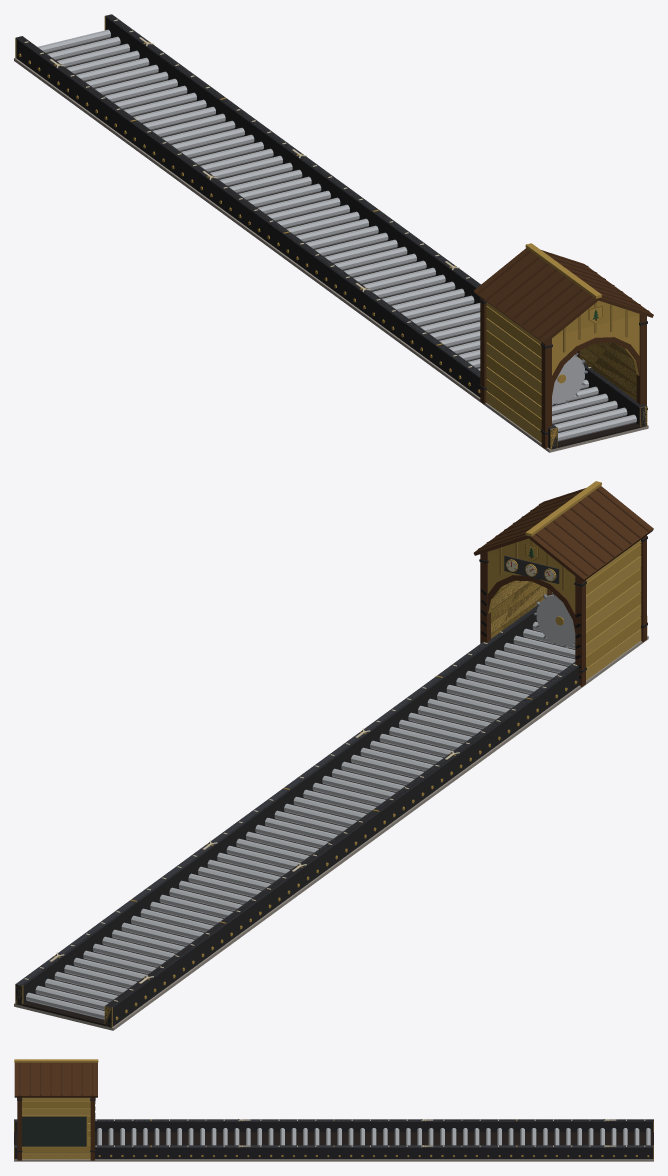
File: ChopSaw.glb
3 views of the same model, one above another, from view 1: azimuth 30°, elevation 25°; view 2: azimuth 150°, elevation 25°; view 3: azimuth 270°, elevation 25° (orthographic). The views are drawn at different scales.
Parts seen in each view (by area): view 1: Body, Rollers, Belt, SawBlade; view 2: Body, Rollers, Belt, SawBlade; view 3: Body, Belt, Rollers.
Part boxes in pixels (x1,y1,x2,y2): Body: (14, 14, 653, 452); Rollers: (18, 29, 636, 441); Belt: (46, 38, 640, 447); SawBlade: (552, 352, 587, 405); Body: (14, 481, 653, 1030); Rollers: (26, 621, 634, 1020); Belt: (22, 630, 575, 1025); SawBlade: (533, 594, 575, 647); Body: (14, 1059, 653, 1161); Belt: (14, 1132, 653, 1145); Rollers: (30, 1128, 650, 1157).
Size of the model in its own units: 6.69 by 8.38 by 56.
